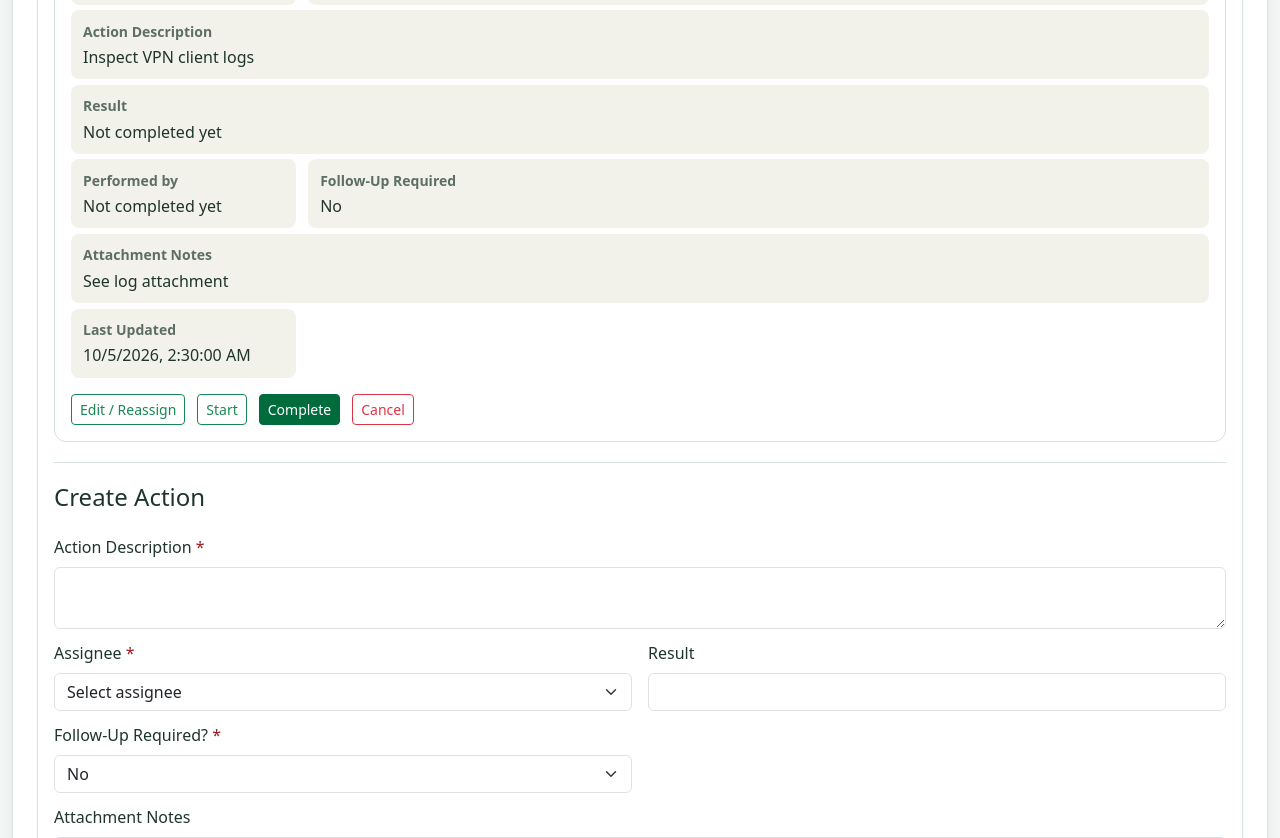
Lab 4 Actions Taken Ticket Detail UI › UI-01 immediately rerenders a successfully completed Action without mutation controls
(page scrolled)
Expected: the text "Inspect VPN client logs" is shown, left=83, top=46, right=254, bottom=68
Click the button "Complete" at (299,409), box left=259, top=394, right=340, bottom=425
(page scrolled)
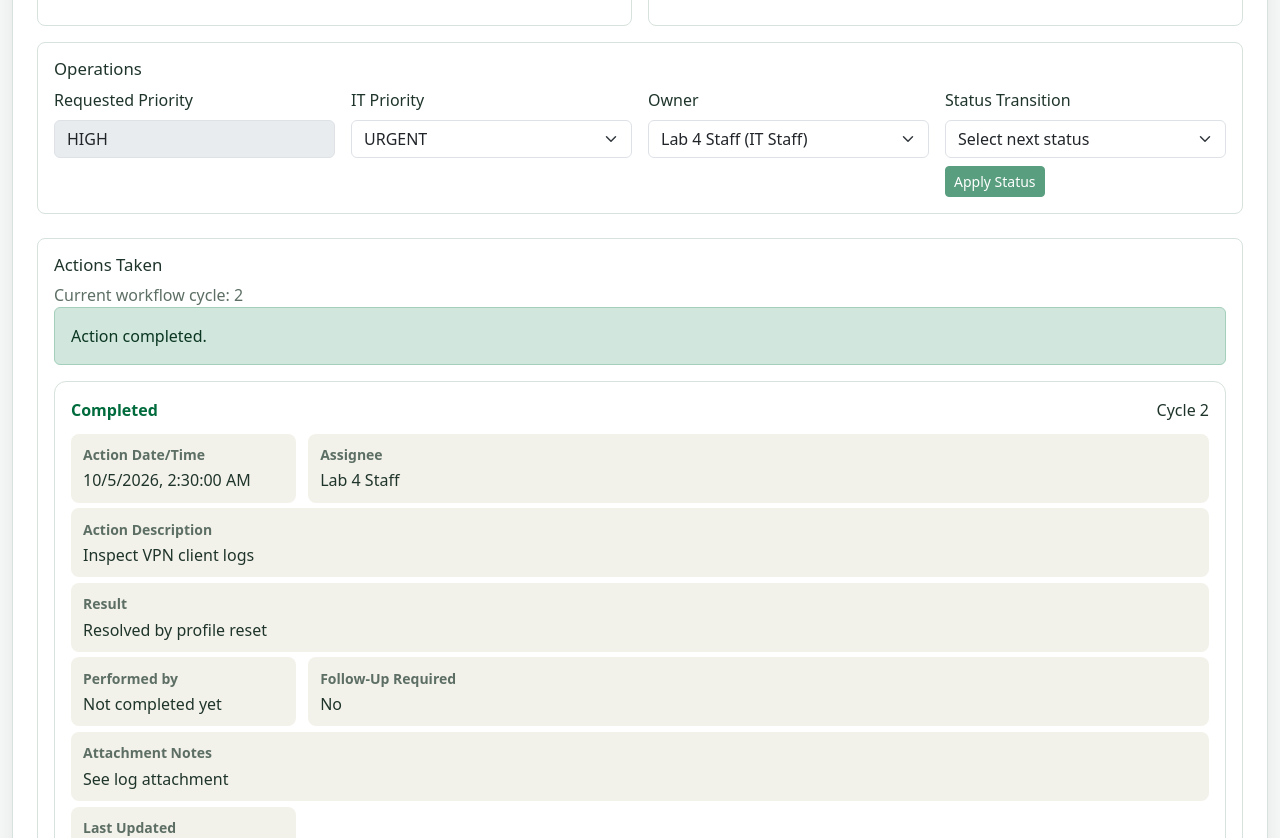
Expected: the text "Completed" is shown, left=71, top=398, right=158, bottom=422
Expected: the button "Edit / Reassign" is gone
Expected: the button "Cancel" is gone
